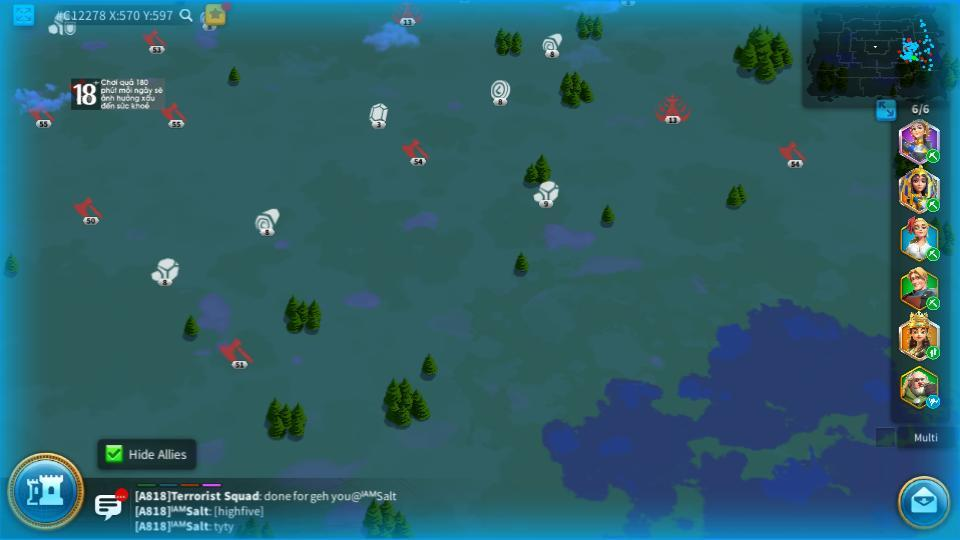gem-z-out: (369, 103, 388, 125)
march_farming: (924, 197, 939, 212), (925, 149, 941, 162), (924, 248, 939, 261), (925, 297, 941, 308)
march_idle: (925, 396, 942, 408)
march_marching: (925, 347, 941, 359)
